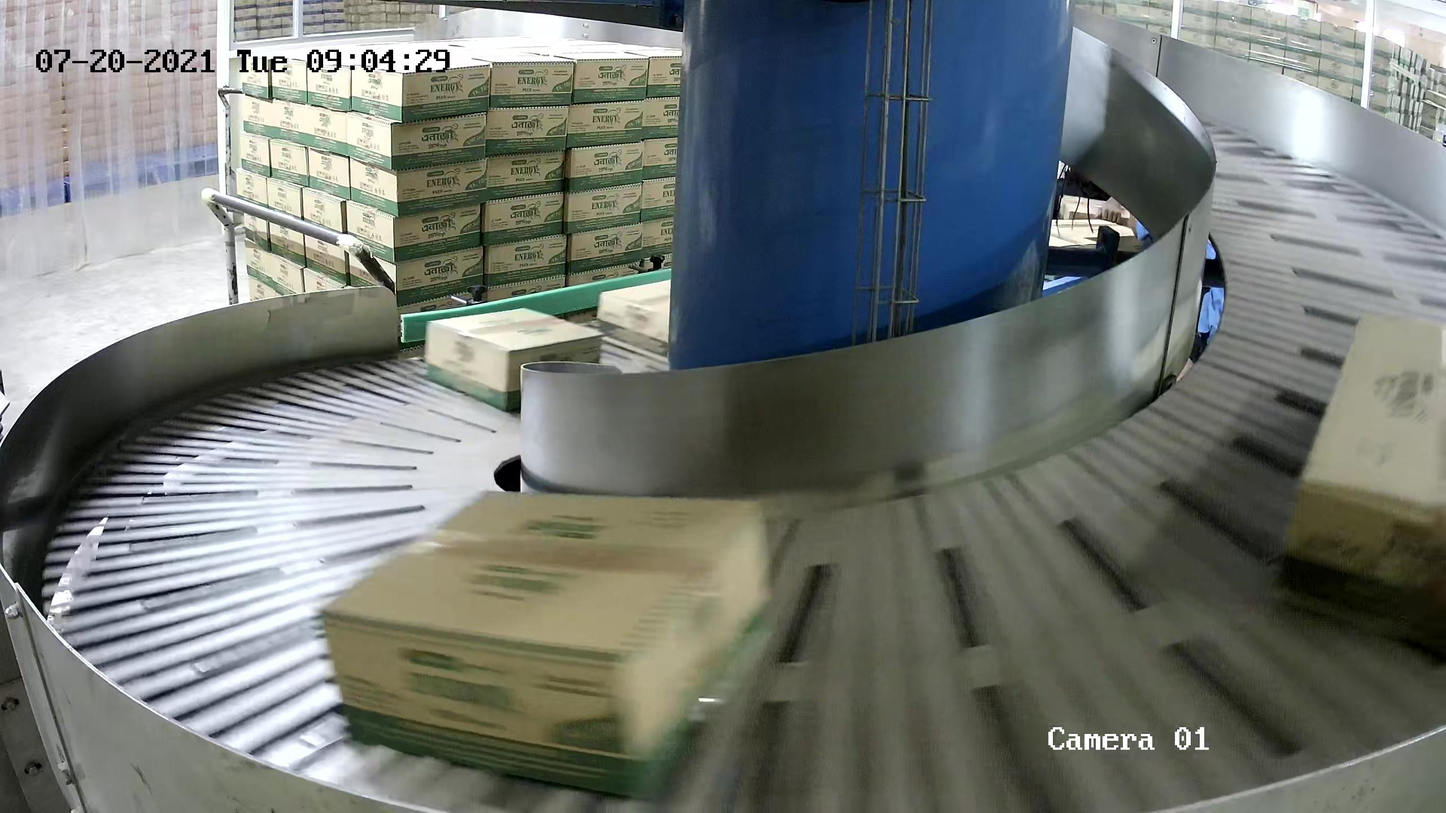Box: (316, 484, 777, 803), (1270, 310, 1446, 651), (422, 306, 606, 413), (595, 277, 671, 366)
